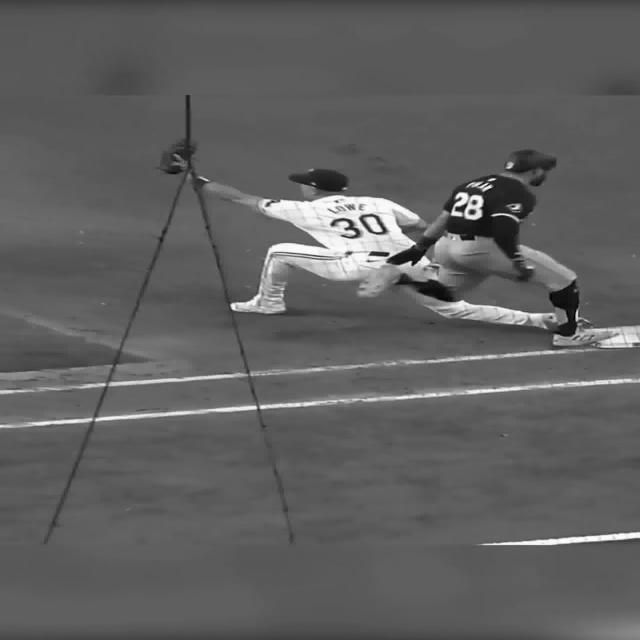base: (596, 325, 640, 349)
baseball_glove: (158, 139, 196, 174)
shoe: (358, 264, 402, 298), (229, 295, 287, 315), (555, 329, 618, 346)
